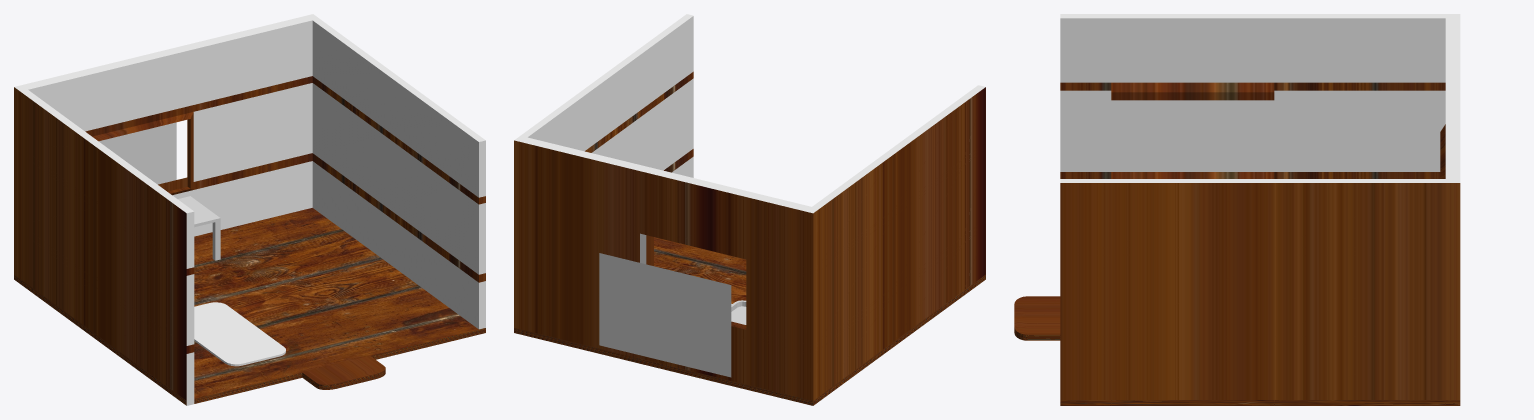
Rendered from habitacion_maleta.glb.
3 renders of one model, left to right at view 1: azimuth 30°, elevation 25°; view 2: azimuth 150°, elevation 25°; view 3: azimuth 270°, elevation 25°, orthographic. The views are drawn at different scales.
Parts seen in each view (by area): view 1: Cube, Plano, Cubo.006; view 2: Cube, Plano; view 3: Cube.
Part boxes in pixels (x1,y1,x2,y2): Cube: [14, 14, 485, 405]; Plano: [99, 122, 176, 184]; Cubo.006: [178, 196, 220, 260]; Cube: [514, 14, 985, 405]; Plano: [599, 253, 731, 377]; Cube: [1014, 14, 1460, 405].
Bounding box in the file's own units: 12.91 × 7.94 × 16.31.
Materials: 8 (2 with a texture image).
